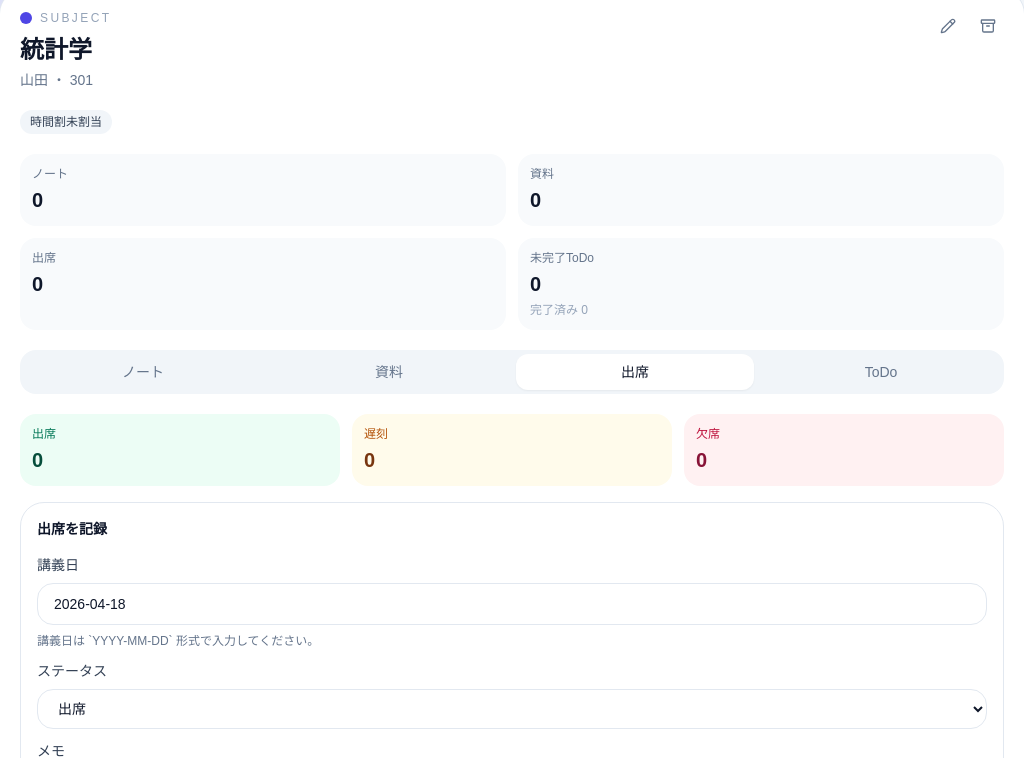
Test case: SubjectDetailPanel › blocks invalid attendance lecture dates before saving
Replace the text in the field with placeholder "YYYY-MM-DD" with "2026-02-31": coordinates (512, 604) [37,583,987,625]
(page scrolled)
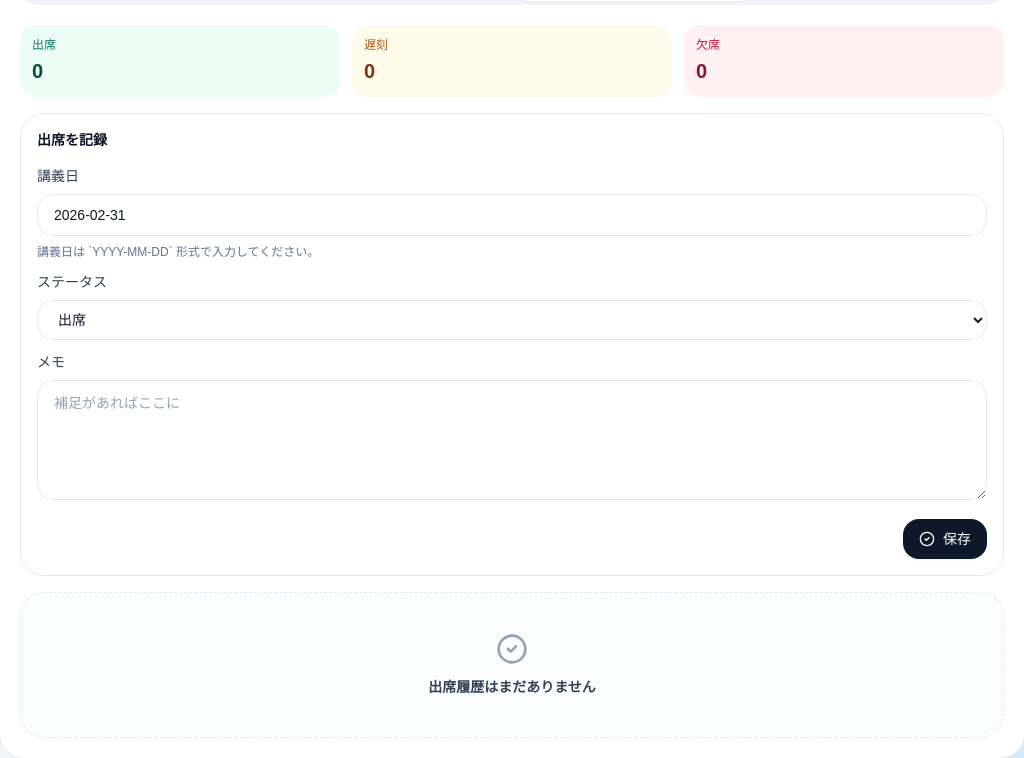
Click the button "保存": coordinates (945, 539) [903,519,987,559]
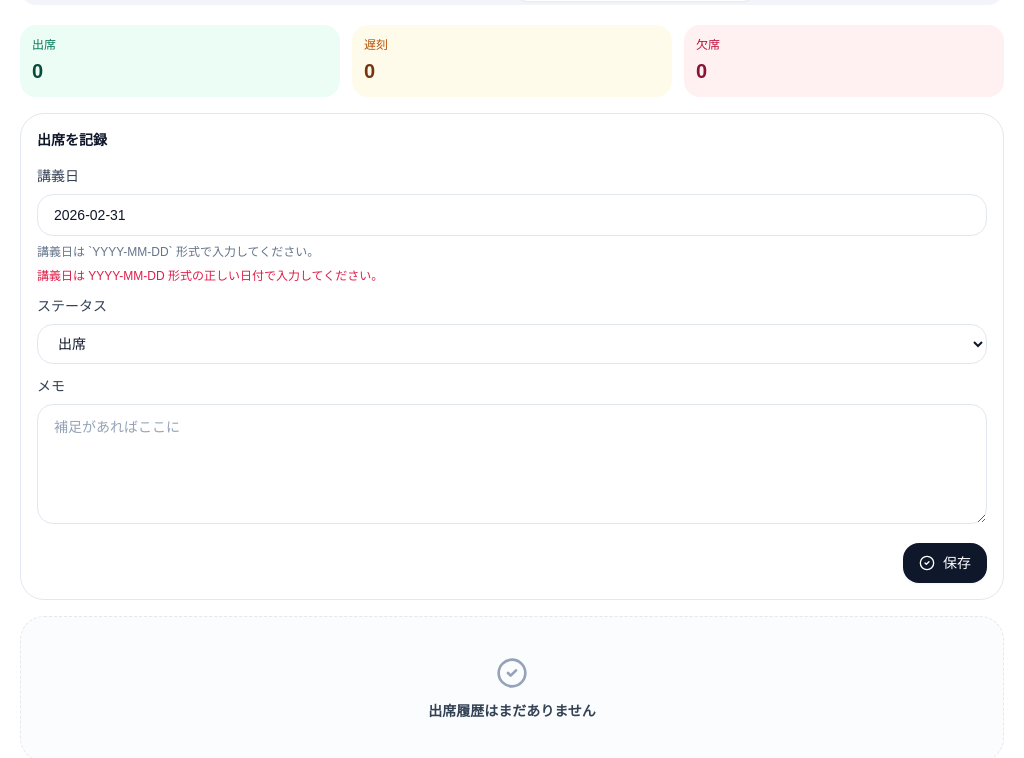
Expected: the text "講義日は YYYY-MM-DD 形式の正しい日付で入力してください。" is shown, [37,269,383,283]
